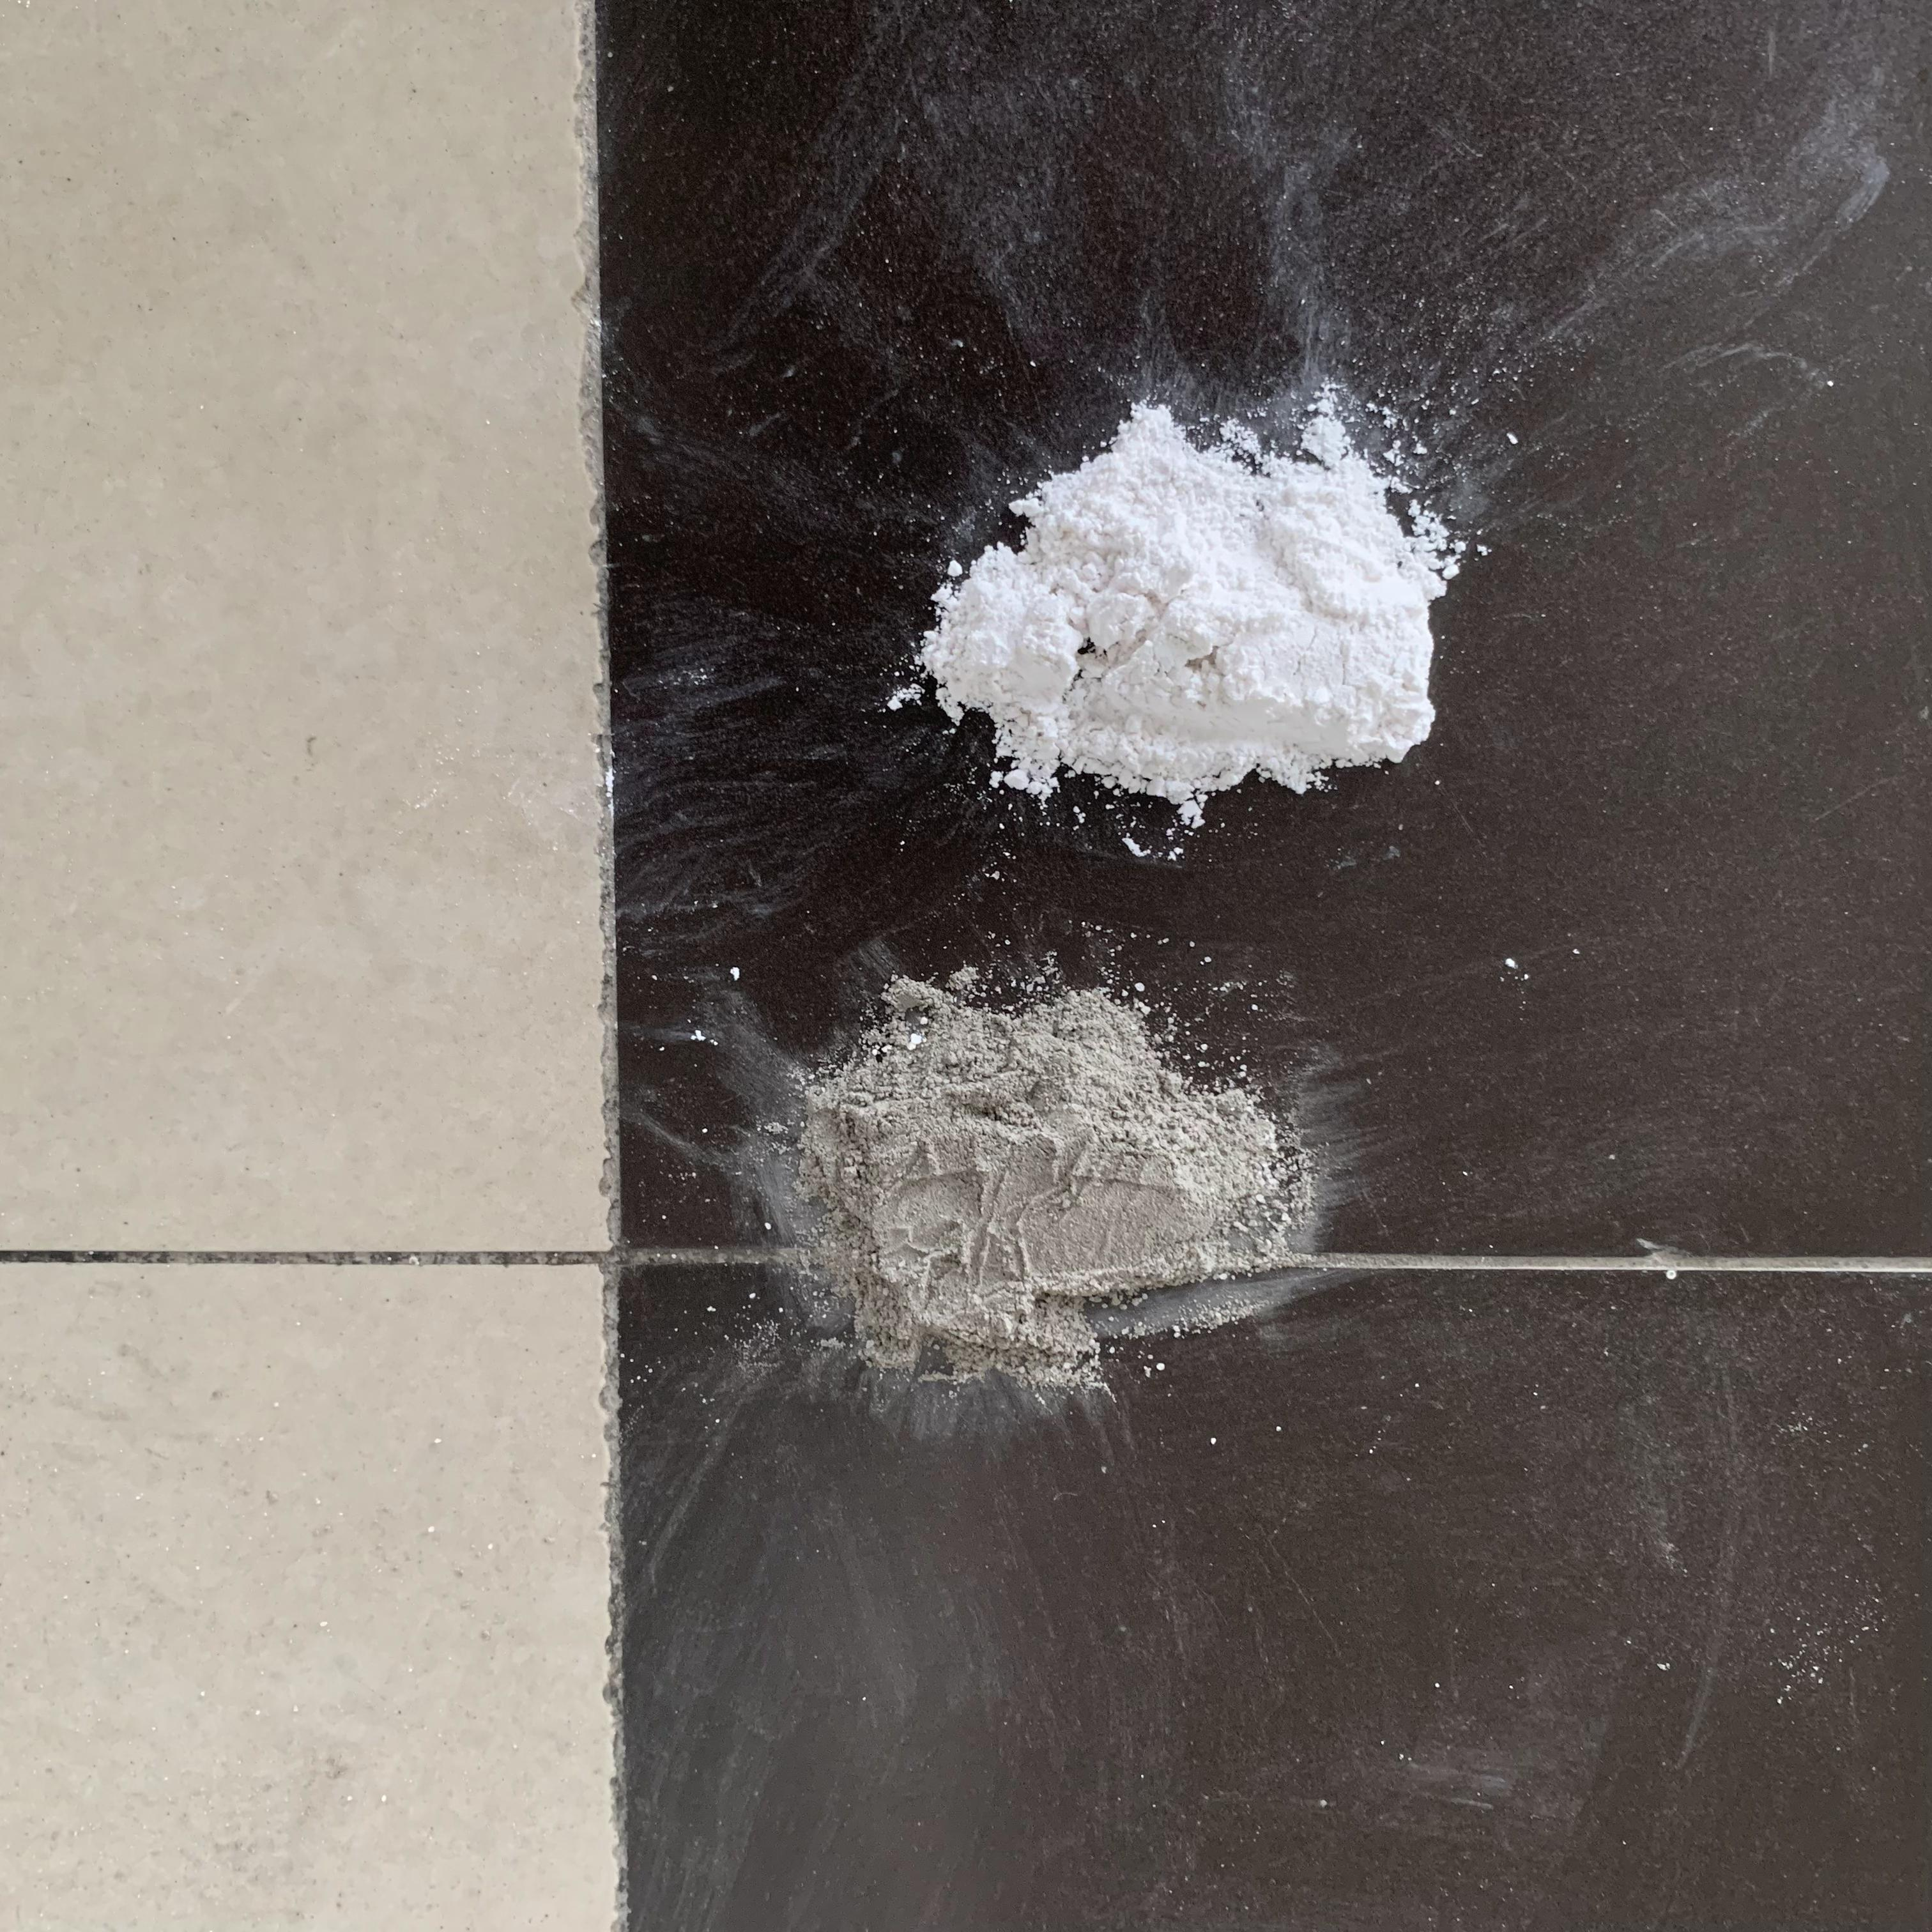ash pile: (708, 943, 1348, 1440), (883, 370, 1491, 862)
